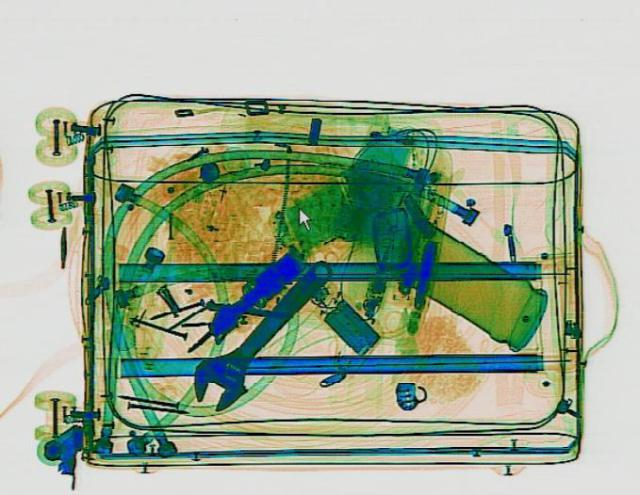Wrench: (170, 249, 356, 413)
